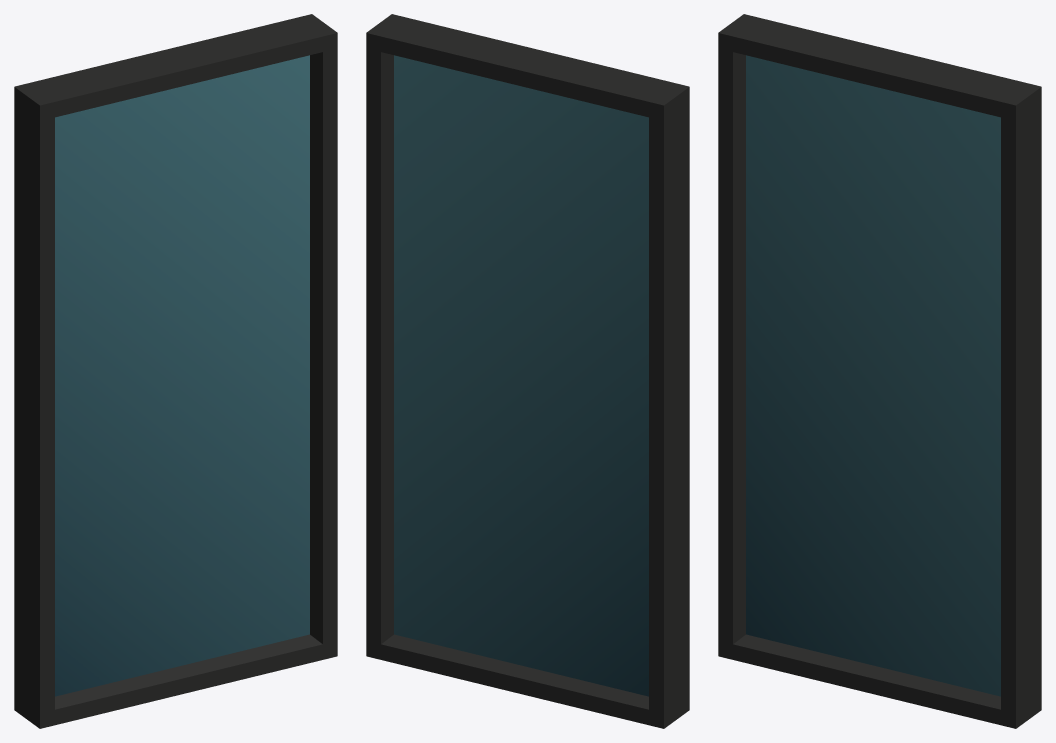
File: tallWindowDarkStraight.fbx
The picture shows the model from 3 angles, left to right: view 1: azimuth 30°, elevation 25°; view 2: azimuth 150°, elevation 25°; view 3: azimuth 330°, elevation 25°; orthographic projection.
Parts seen in each view (by area): view 1: tallWindowDarkStraight; view 2: tallWindowDarkStraight; view 3: tallWindowDarkStraight.
Part boxes in pixels (x1,y1,x2,y2): tallWindowDarkStraight: (14, 14, 337, 728); tallWindowDarkStraight: (366, 14, 689, 728); tallWindowDarkStraight: (718, 14, 1041, 728).
Bounding box in the file's own units: 200 × 400 × 30.
Materials: 1 (1 with a texture image).
